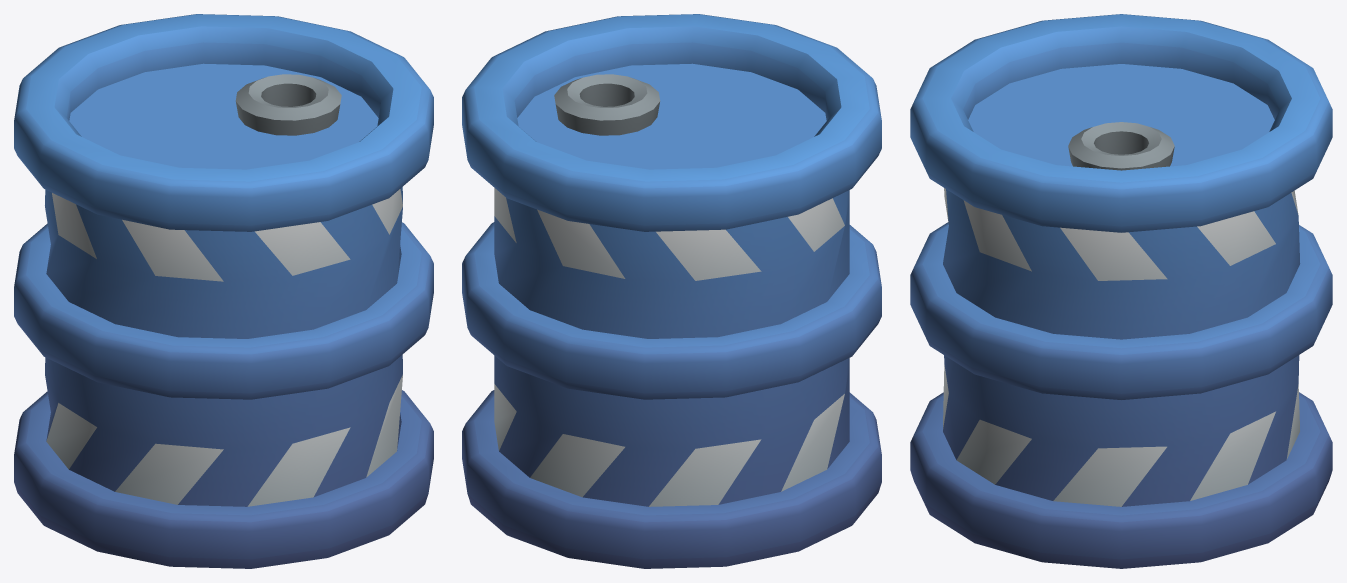
File: barrel.gltf.glb
3 views of the same model, side by side, from view 1: azimuth 30°, elevation 25°; view 2: azimuth 150°, elevation 25°; view 3: azimuth 270°, elevation 25° (orthographic).
Visible parts, largest first — view 1: barrel; view 2: barrel; view 3: barrel.
Boxes of the visible parts, x1,y1,x2,y2 form: barrel: [14, 14, 433, 568]; barrel: [462, 14, 881, 568]; barrel: [910, 14, 1332, 568].
Bounding box in the file's own units: 1 × 1 × 1.
Materials: 1 (1 with a texture image).
